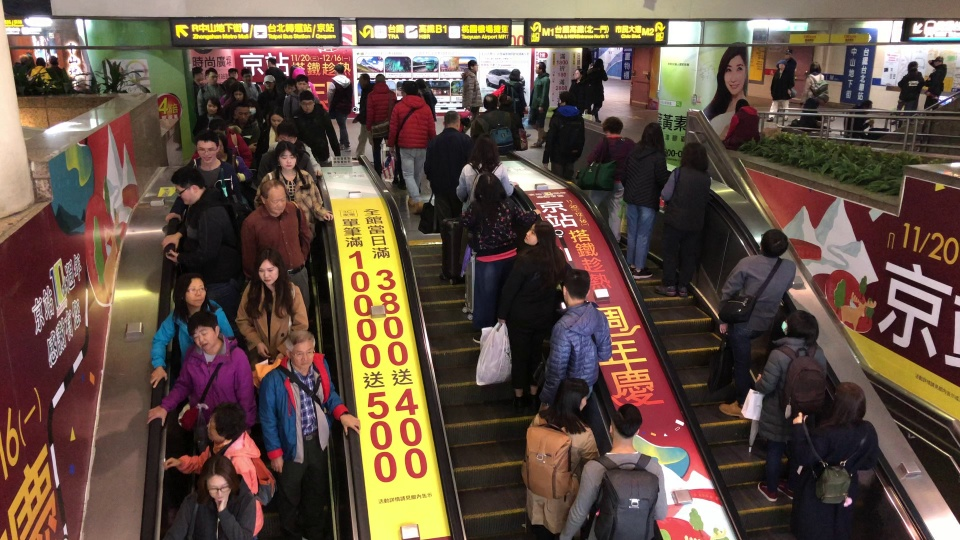person_head: (244, 242, 299, 327), (204, 460, 243, 510), (174, 262, 210, 313), (170, 163, 207, 208), (282, 329, 316, 376), (557, 376, 588, 426), (837, 385, 869, 429), (787, 307, 821, 348), (190, 313, 221, 357), (472, 170, 502, 213), (608, 402, 640, 440), (261, 179, 288, 219), (562, 266, 590, 302), (521, 218, 552, 249), (207, 407, 237, 435), (474, 137, 497, 170), (762, 226, 783, 262), (195, 138, 218, 167), (682, 145, 707, 168), (641, 122, 664, 147), (441, 110, 461, 133), (601, 116, 624, 135), (298, 90, 315, 115), (277, 124, 297, 143), (401, 80, 420, 99), (208, 117, 225, 136), (204, 99, 220, 116), (355, 72, 370, 90), (734, 99, 750, 115), (233, 83, 245, 104), (557, 89, 571, 106), (205, 66, 218, 84), (484, 90, 496, 109), (242, 67, 254, 85), (270, 112, 283, 128), (533, 60, 545, 77), (192, 64, 203, 82), (375, 74, 386, 92), (808, 61, 821, 76), (218, 139, 228, 158), (227, 64, 238, 80), (17, 54, 31, 66), (333, 64, 345, 77), (297, 76, 309, 89), (863, 98, 873, 112), (509, 68, 519, 82), (294, 66, 309, 75), (47, 54, 58, 66), (262, 74, 273, 86), (468, 59, 477, 73), (268, 55, 277, 69), (34, 57, 45, 68), (933, 54, 943, 66), (907, 60, 917, 72), (783, 47, 793, 59), (573, 67, 582, 79), (286, 80, 295, 92), (594, 58, 603, 69), (818, 94, 828, 103), (777, 60, 786, 69), (288, 65, 295, 76)
person_vbox: (258, 324, 362, 540), (719, 218, 799, 413), (558, 401, 669, 540), (158, 404, 275, 533), (161, 168, 253, 325), (146, 306, 255, 437), (755, 299, 818, 513), (497, 216, 568, 402), (146, 260, 237, 402), (521, 370, 597, 535), (810, 379, 887, 540), (236, 173, 316, 325), (229, 241, 312, 366), (455, 135, 512, 313), (423, 110, 480, 283), (658, 138, 718, 295), (469, 182, 518, 362), (546, 270, 613, 393), (577, 115, 638, 246), (173, 130, 254, 228), (624, 119, 670, 285), (259, 139, 336, 230), (388, 79, 437, 216), (180, 463, 252, 540), (541, 89, 586, 184), (259, 120, 329, 176), (365, 71, 400, 181), (189, 113, 253, 172), (259, 122, 316, 188), (254, 109, 307, 175), (295, 92, 341, 166), (328, 60, 355, 153), (211, 135, 254, 192), (469, 91, 509, 150), (896, 58, 925, 136), (352, 71, 376, 157), (724, 97, 759, 152), (529, 59, 550, 147), (802, 59, 830, 117), (191, 66, 223, 113), (226, 86, 256, 135), (766, 59, 790, 119), (922, 53, 947, 109), (191, 95, 226, 135), (843, 99, 876, 139), (588, 58, 608, 124), (461, 58, 483, 118), (510, 67, 527, 144), (801, 92, 831, 134), (291, 78, 320, 121), (28, 53, 55, 96), (258, 76, 286, 115), (567, 65, 589, 114), (780, 44, 797, 101), (48, 52, 71, 94), (417, 76, 437, 124), (262, 53, 284, 85), (275, 142, 300, 168), (293, 64, 314, 94), (241, 64, 258, 100), (225, 83, 245, 113), (190, 65, 207, 98), (220, 80, 239, 105), (17, 51, 30, 78)
